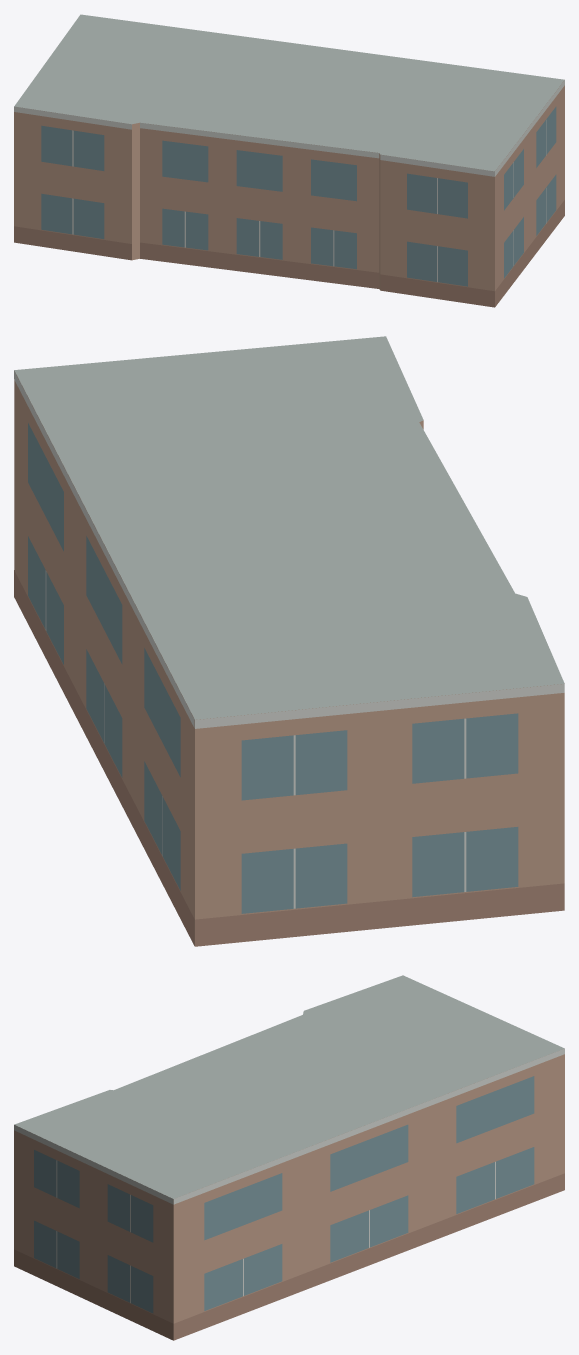
The model's file is survey-upis-32911810.glb.
3 views of the same model, one above another, from view 1: azimuth 30°, elevation 25°; view 2: azimuth 150°, elevation 25°; view 3: azimuth 270°, elevation 25° (orthographic). The views are drawn at different scales.
Parts seen in each view (by area): view 1: survey-upis-32911810.tmp; view 2: survey-upis-32911810.tmp; view 3: survey-upis-32911810.tmp.
Part boxes in pixels (bbox=[...]): survey-upis-32911810.tmp: bbox=[14, 14, 564, 307]; survey-upis-32911810.tmp: bbox=[14, 336, 564, 946]; survey-upis-32911810.tmp: bbox=[14, 975, 564, 1340].
Bounding box in the file's own units: 20.68 × 6.1 × 21.51.
